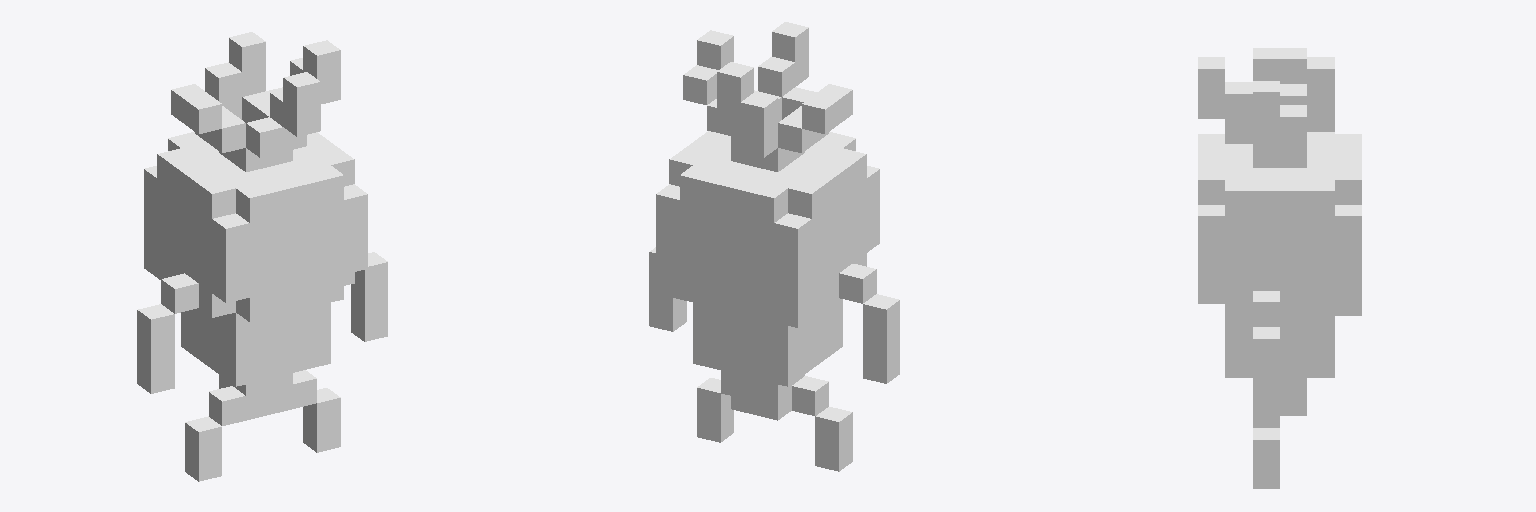
Rendered from mork.obj.
3 views of the same model, side by side, from view 1: azimuth 30°, elevation 25°; view 2: azimuth 150°, elevation 25°; view 3: azimuth 270°, elevation 25° (orthographic).
Visible parts, largest first — view 1: object 1; view 2: object 1; view 3: object 1.
Boxes of the visible parts, box(x1,y1,x2,y2) form: object 1: box(137, 32, 387, 481); object 1: box(649, 22, 899, 471); object 1: box(1198, 48, 1361, 488).
Size of the model in its own units: 1 by 1.6 by 0.6.